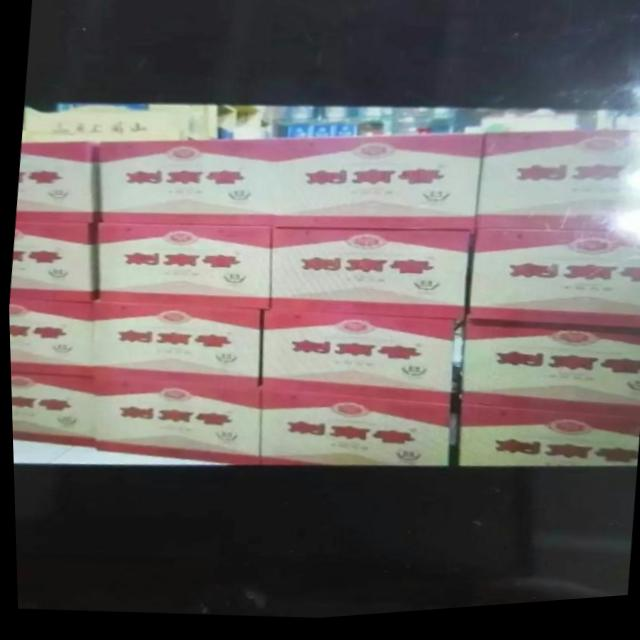box: (269, 141, 483, 235), (267, 231, 470, 325), (257, 314, 450, 411), (458, 327, 640, 427), (464, 237, 640, 339), (475, 141, 640, 239), (255, 392, 447, 473), (97, 142, 274, 229), (96, 224, 269, 313), (91, 380, 258, 468), (89, 304, 259, 390), (457, 411, 637, 477), (7, 221, 92, 304), (7, 299, 92, 378), (14, 141, 93, 224), (9, 374, 93, 449)
